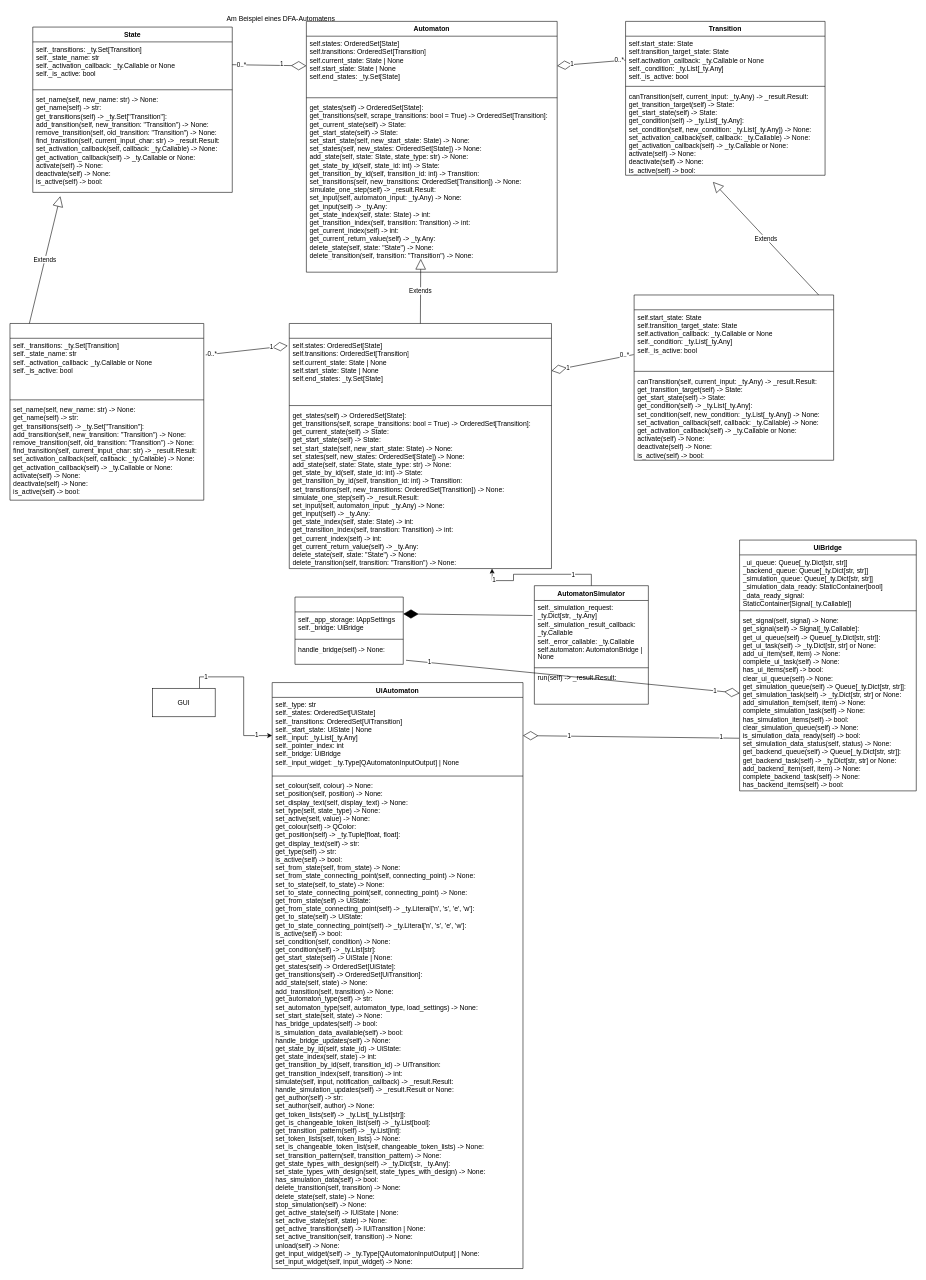
Image size: 926x1280. Some labels were removed from this diagram. Each missing label, with the box of its shape:
DFAAutomaton: (289, 323, 551, 569)
DFAState: (9, 323, 204, 500)
DFATransition: (634, 294, 834, 460)
SimulationLoader: (294, 597, 403, 664)
